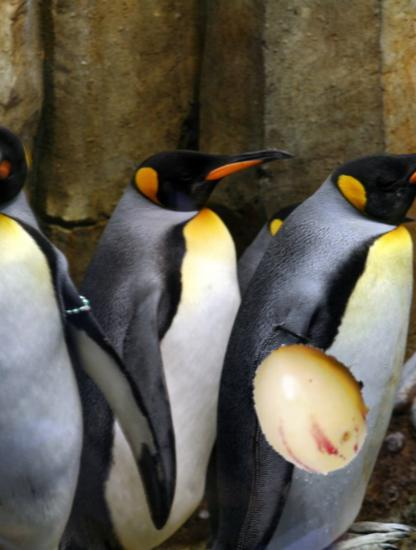Pepino: (244, 338, 382, 476)
